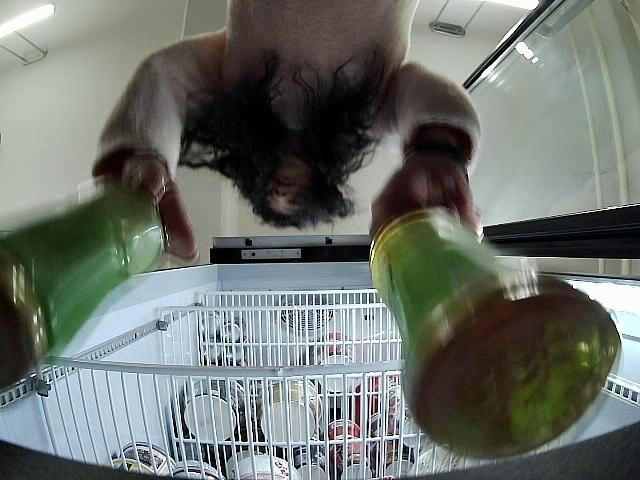19_17cha: (369, 206, 622, 457), (0, 173, 170, 388)
